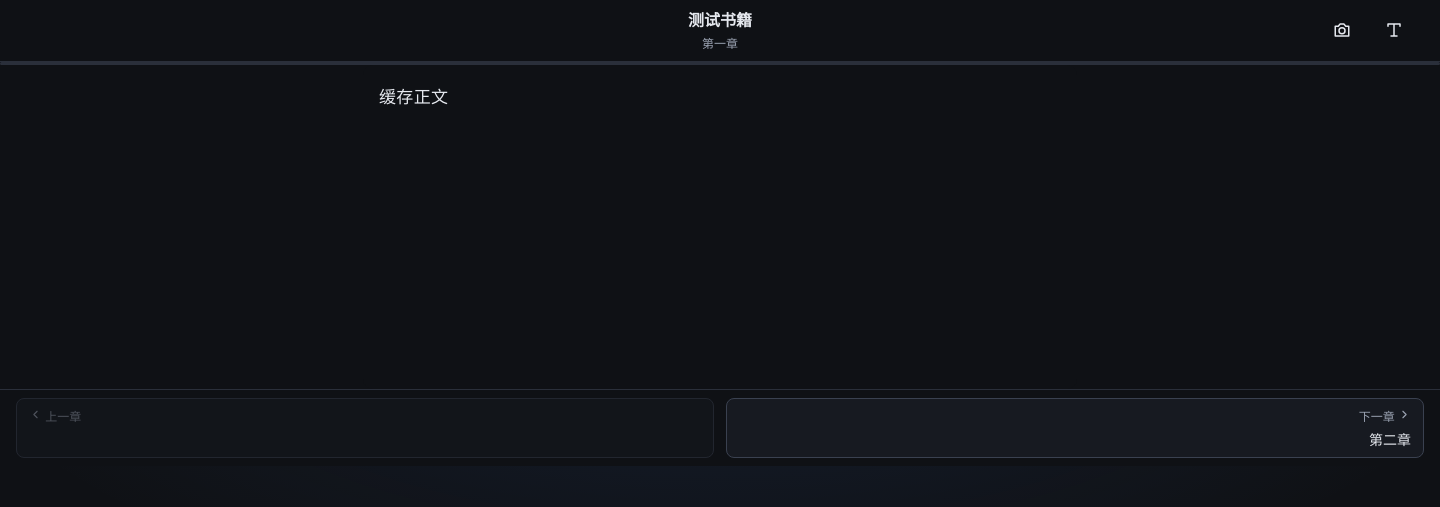
Test: allows read-only chapter navigation without saving progress
Check: the text "缓存正文" is shown, box [379,88,448,107]
Check: the button "上一章" is disabled, box [16,398,714,458]
Step 1. Click the button "下一章 第二章" → (1377, 416), box [726,398,1424,458]
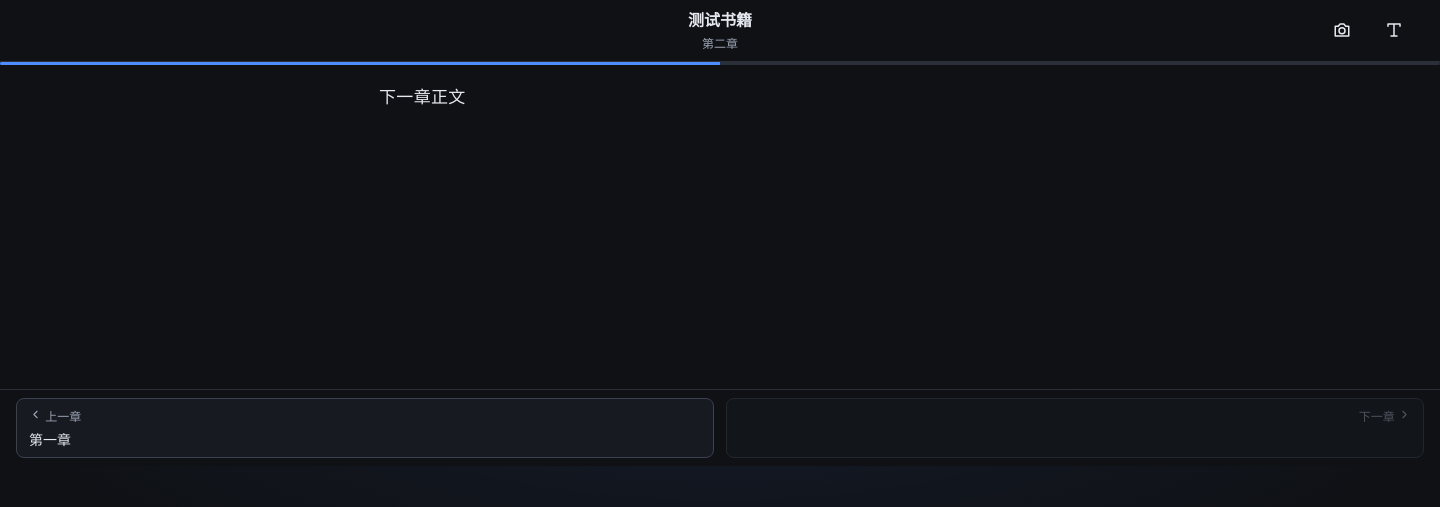
Check: the text "下一章正文" is shown, box [379,88,466,107]
Check: the button "下一章" is disabled, box [726,398,1424,458]
Step 2. Click the button "上一章 第一章" → (63, 416), box [16,398,714,458]
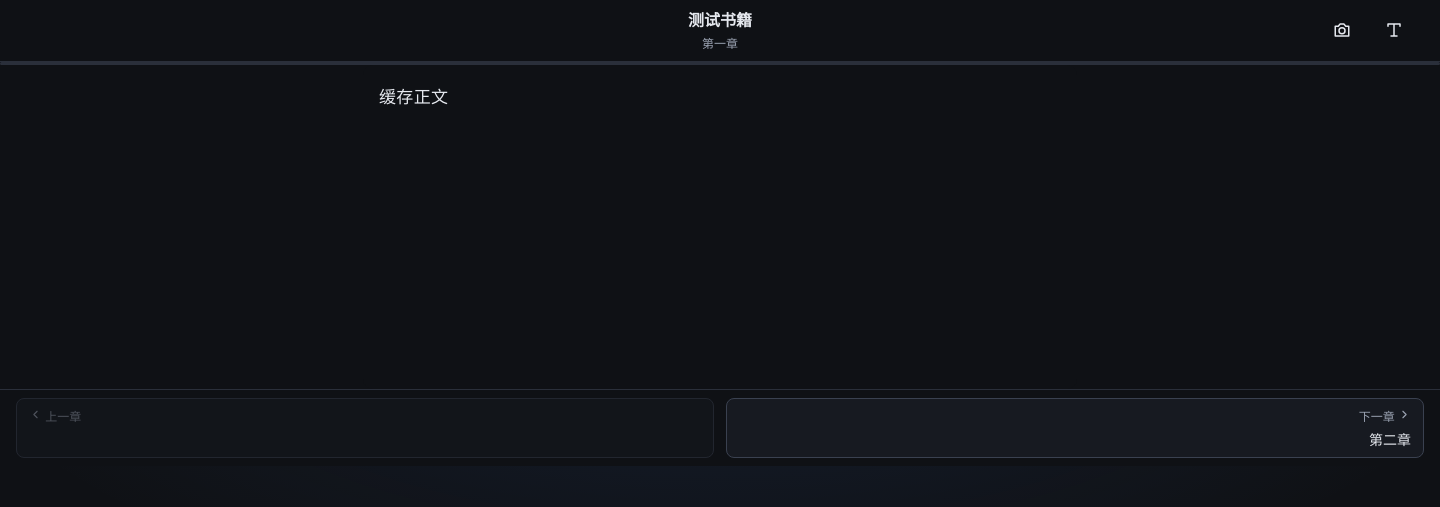
Check: the text "缓存正文" is shown, box [379,88,448,107]
